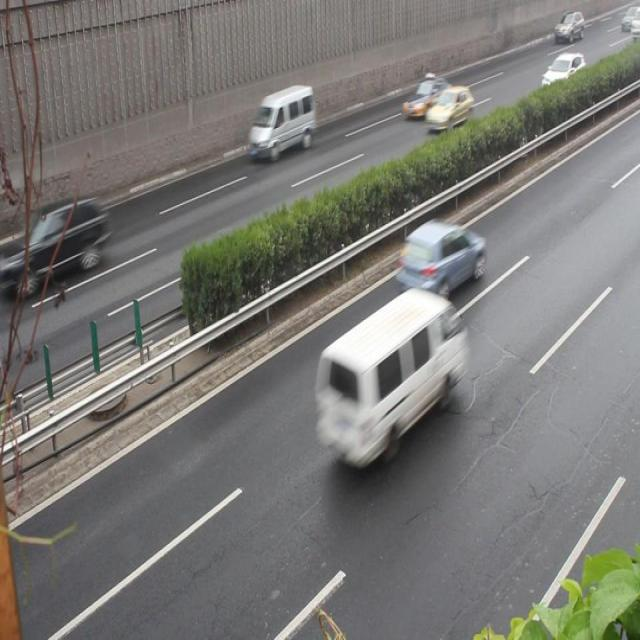car: (19, 199, 108, 286), (398, 222, 484, 298), (402, 76, 452, 120), (425, 86, 472, 129)
truck: (313, 290, 463, 464), (247, 84, 314, 161)
